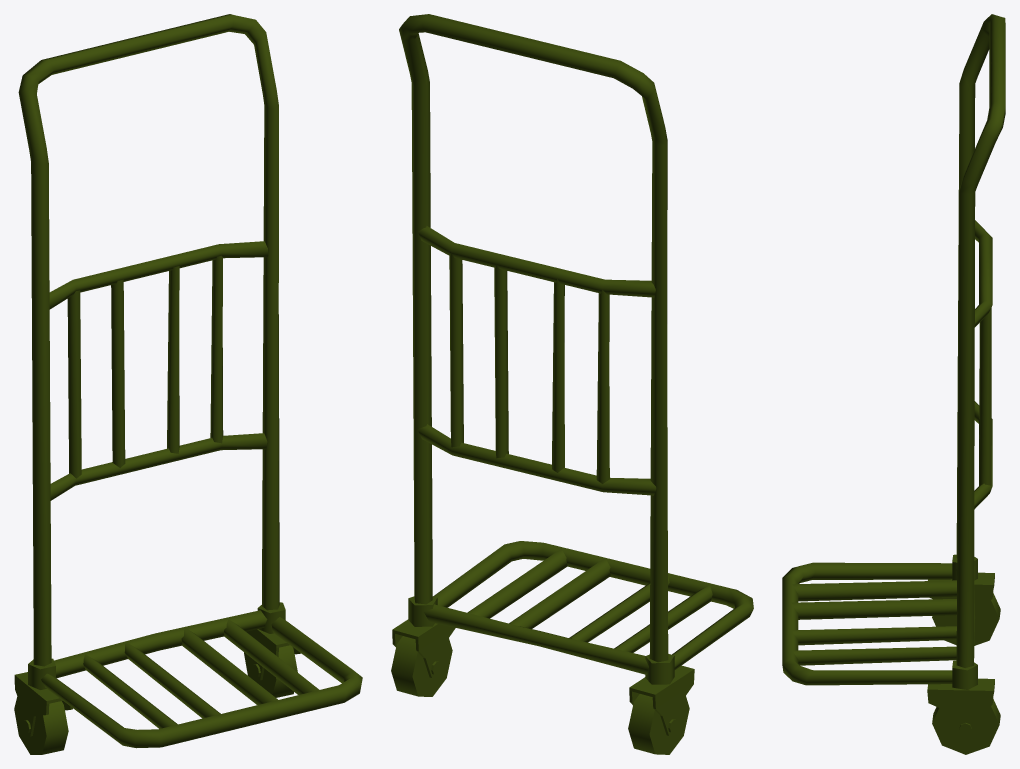
Rendered from Trolleys01_M.fbx.
The picture shows the model from 3 angles, left to right: view 1: azimuth 30°, elevation 25°; view 2: azimuth 150°, elevation 25°; view 3: azimuth 270°, elevation 25°; orthographic projection. The views are drawn at different scales.
Parts seen in each view (by area): view 1: Trolleys01, Trolleys01_W2; view 2: Trolleys01, Trolleys01_W2; view 3: Trolleys01, Trolleys01_W2.
Part boxes in pixels (box(x1,y1,x2,y2)): Trolleys01: box(18, 14, 362, 748); Trolleys01_W2: box(14, 602, 300, 754); Trolleys01: box(399, 14, 753, 674); Trolleys01_W2: box(391, 596, 694, 754); Trolleys01: box(782, 14, 1005, 685); Trolleys01_W2: box(927, 554, 1000, 754).
Bounding box in the file's own units: 0.1681 × 0.4175 × 0.1325.
